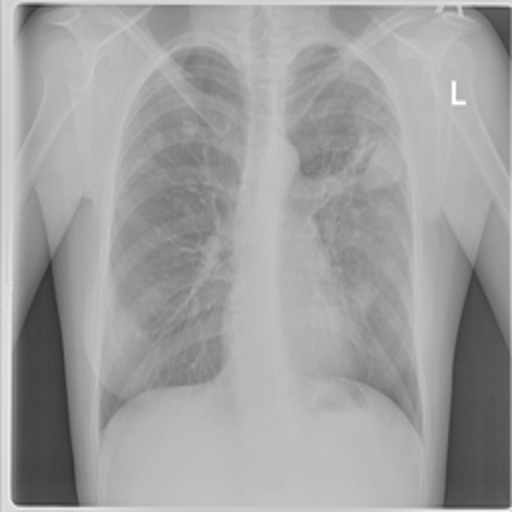TB: (318, 131, 410, 203)
